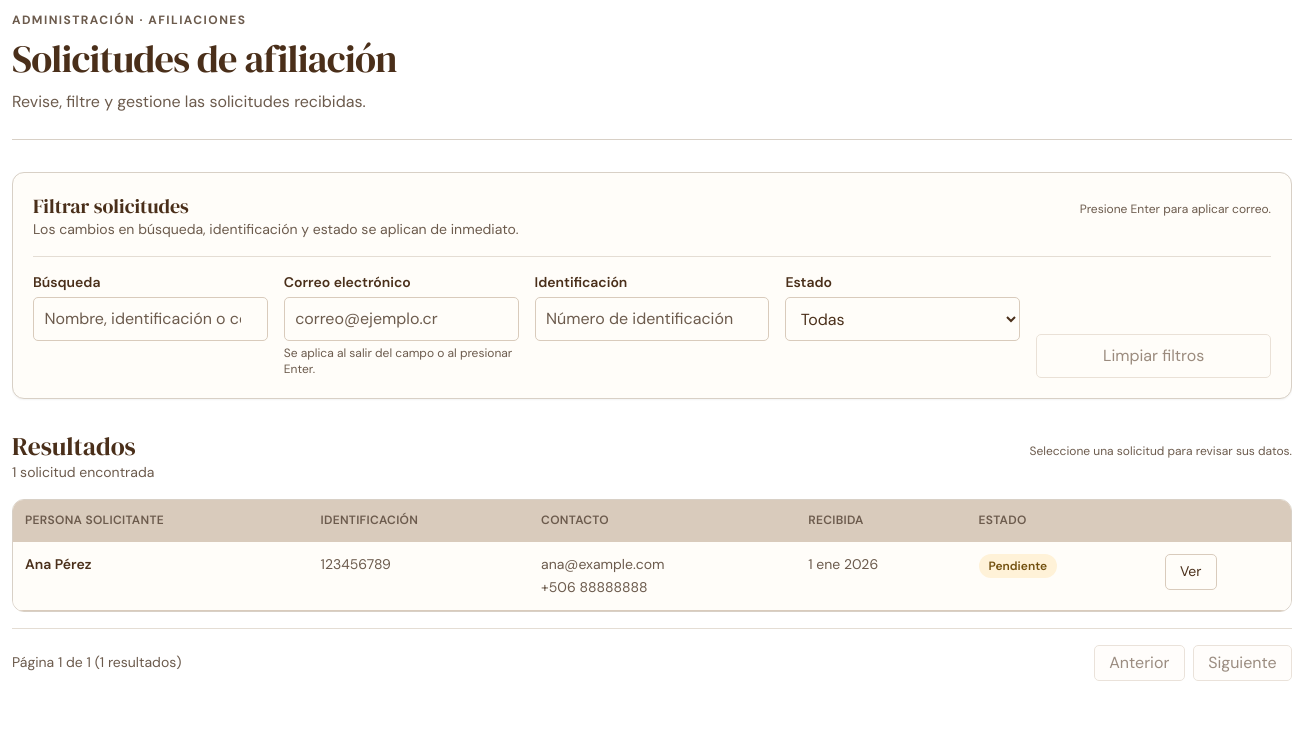
it: AffiliateRequestsPage filters › applies a valid email on Enter and shows its applied state
Type " ana@example.com " into the field labelled "Correo electrónico".
click(401, 318); type(" ana@example.com ")  # box [284,296,519,340]
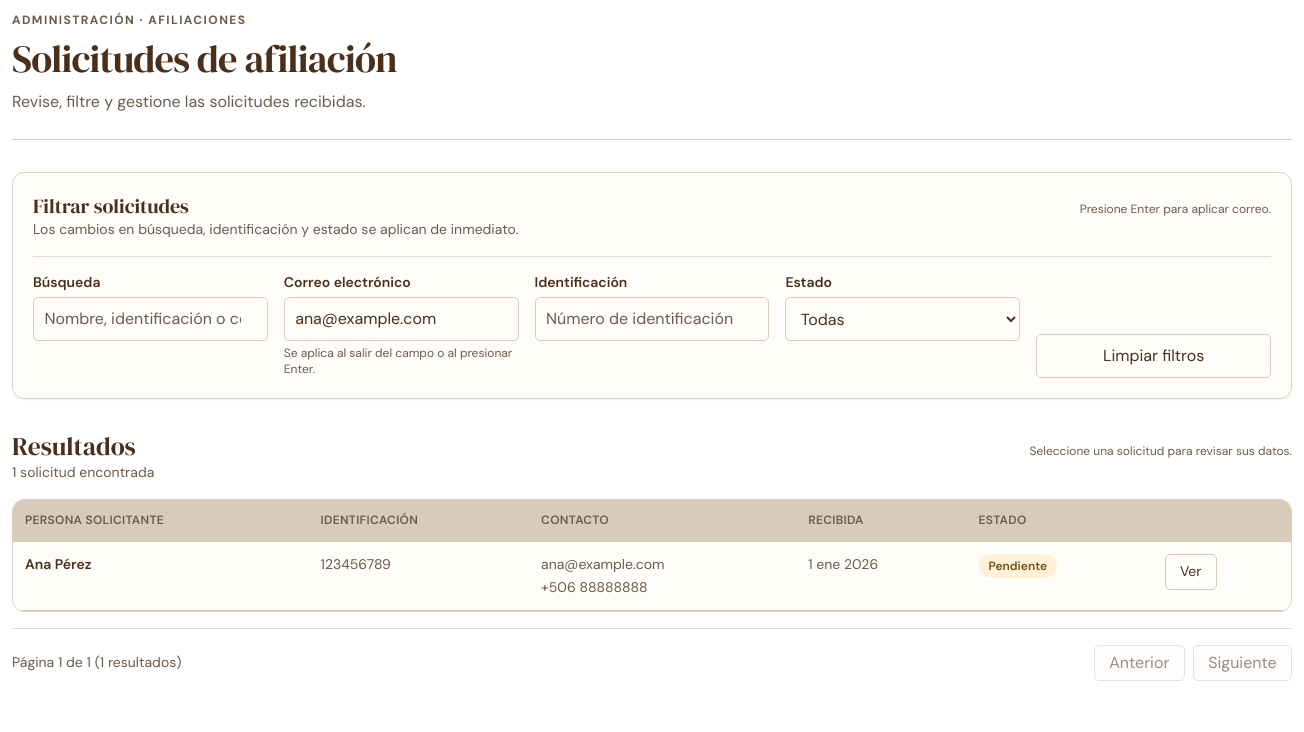
Submit the form named "Correo electrónico", box [12,172,1292,399]
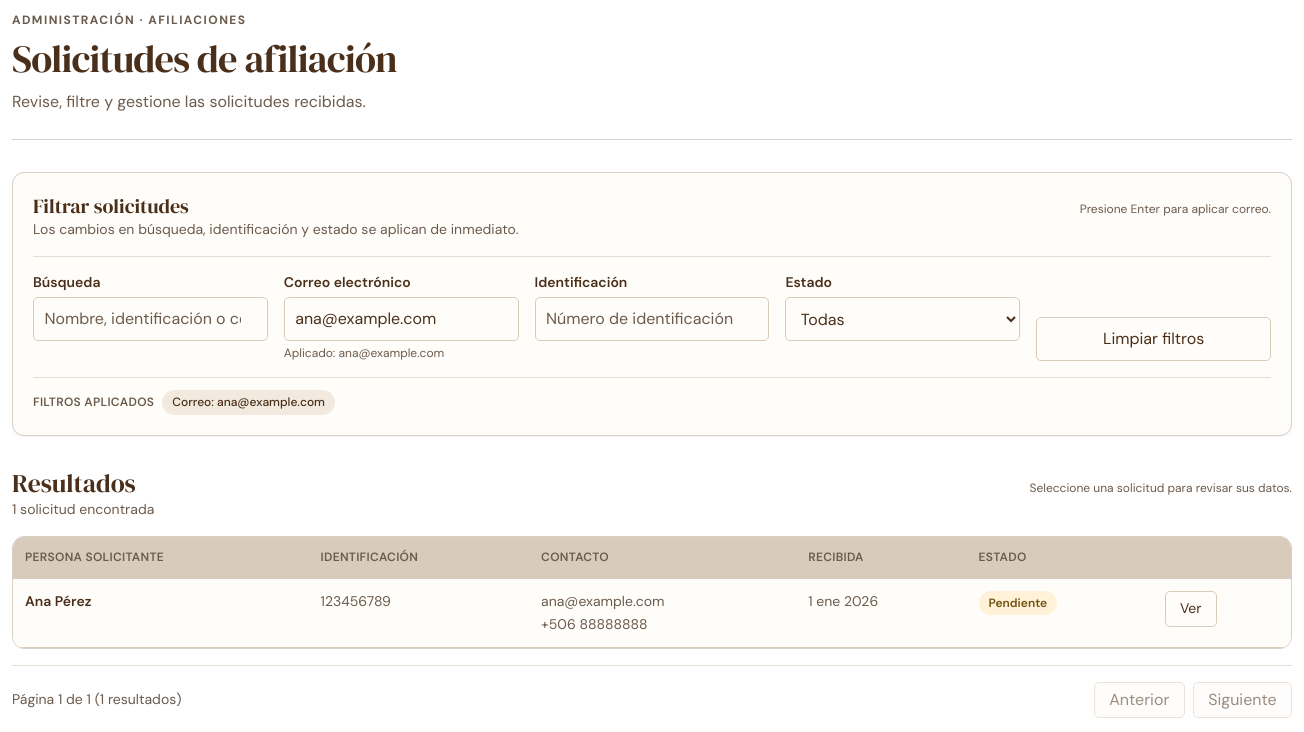
Expected: the text "Aplicado: ana@example.com" is shown, [284,344,444,360]
Expected: the text "Correo: ana@example.com" is shown, [162,390,335,415]
